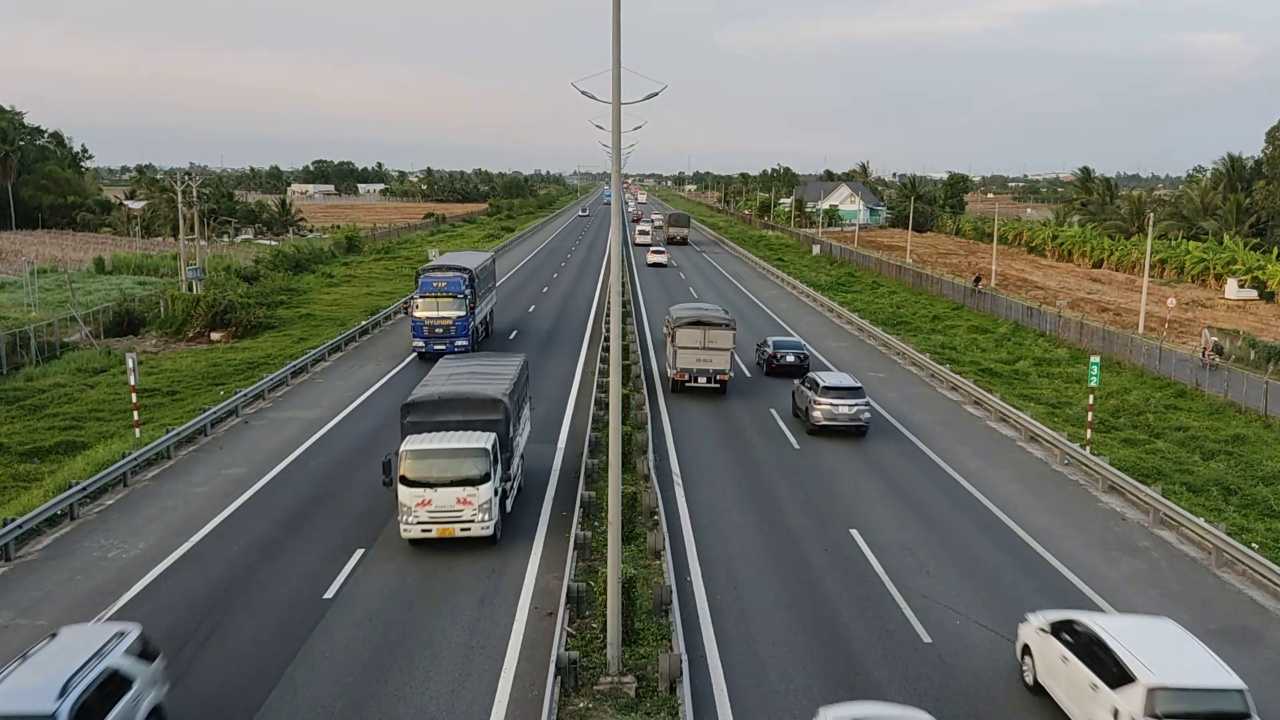car: (1015, 607, 1259, 719), (0, 618, 172, 718), (790, 369, 873, 435), (754, 335, 811, 376), (645, 247, 671, 268)
truck: (380, 351, 534, 544), (407, 249, 498, 360), (662, 301, 738, 394)
